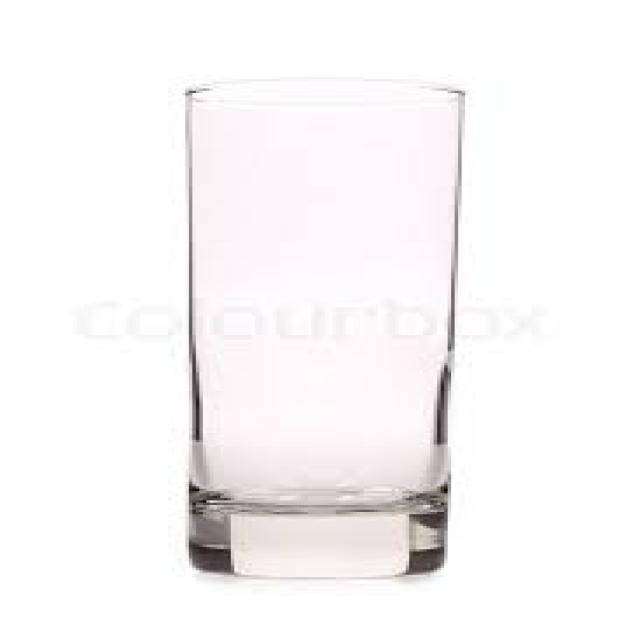Anorganik: (182, 77, 465, 572)
